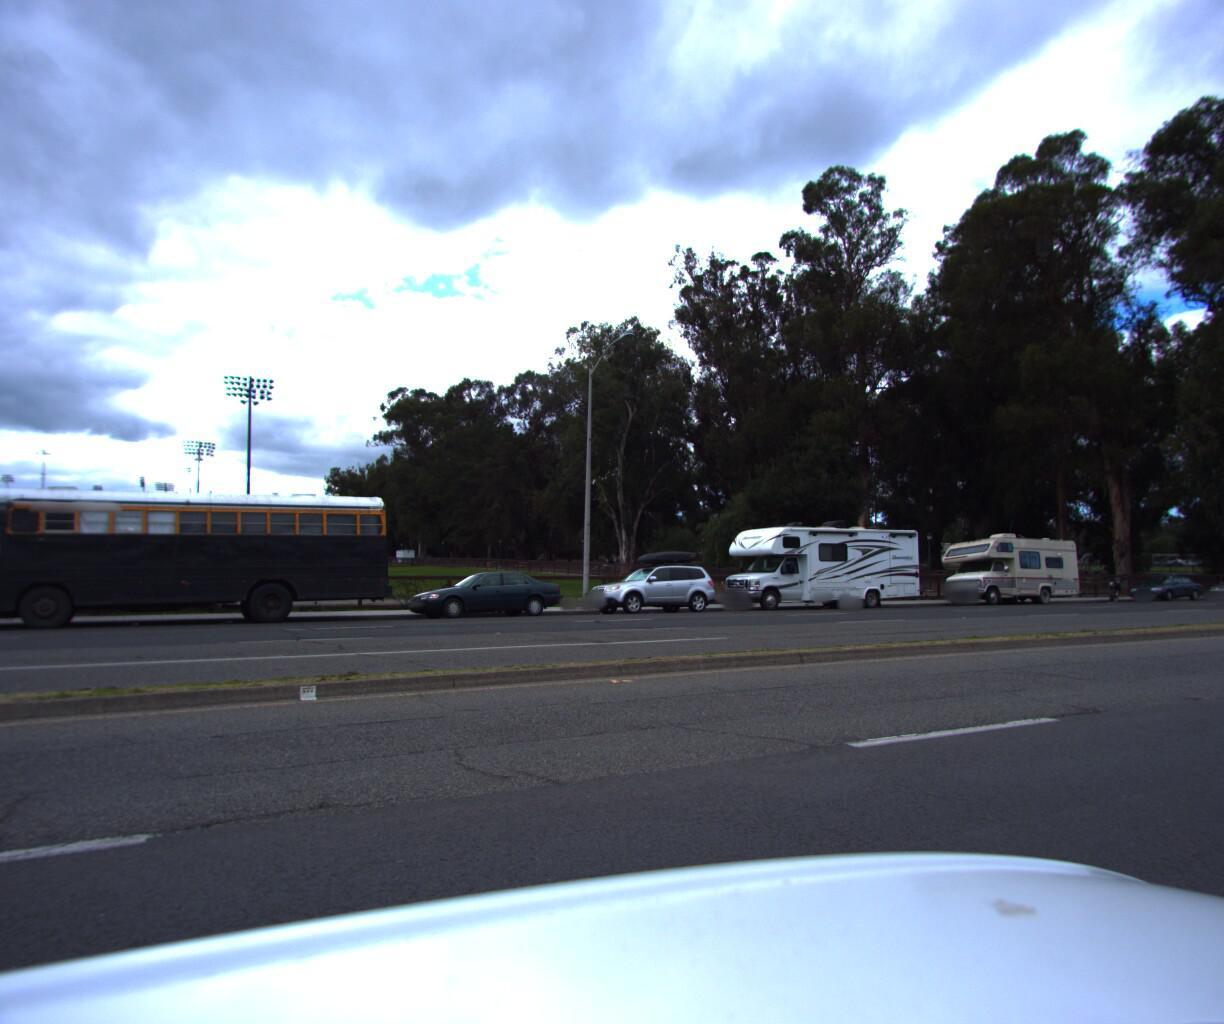car: (570, 547, 725, 611), (391, 565, 570, 617), (1116, 571, 1200, 600), (1194, 566, 1224, 597)
other_vehicle: (702, 513, 929, 609), (927, 523, 1083, 603)
